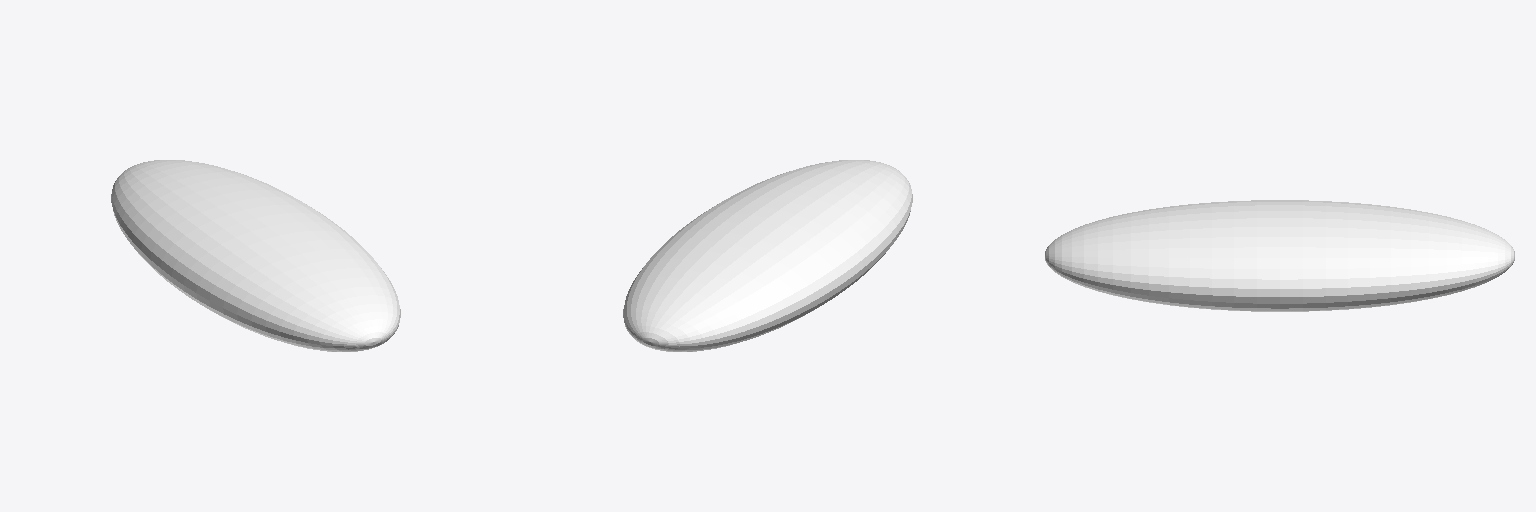
The model's file is H496-Shield.obj.
The picture shows the model from 3 angles: view 1: azimuth 30°, elevation 25°; view 2: azimuth 150°, elevation 25°; view 3: azimuth 270°, elevation 25°; orthographic projection.
Parts seen in each view (by area): view 1: shield_Sphere; view 2: shield_Sphere; view 3: shield_Sphere.
Part boxes in pixels (bbox=[...]): shield_Sphere: bbox=[111, 160, 400, 351]; shield_Sphere: bbox=[623, 160, 912, 351]; shield_Sphere: bbox=[1045, 200, 1514, 311].
Size of the model in its own units: 20.98 by 9 by 50.65.